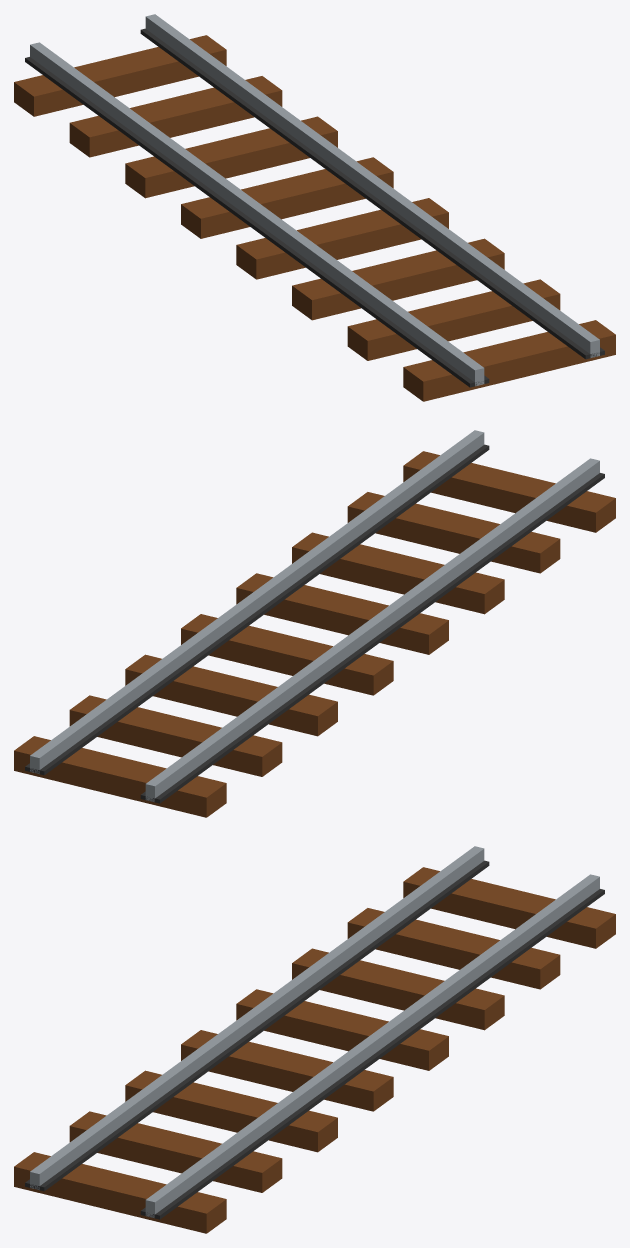
File: Mining_RailStraight.fbx
3 renders of one model, top to bottom at view 1: azimuth 30°, elevation 25°; view 2: azimuth 150°, elevation 25°; view 3: azimuth 330°, elevation 25°, orthographic.
Visible parts, largest first — view 1: Mining_RailStraight; view 2: Mining_RailStraight; view 3: Mining_RailStraight.
Part boxes in pixels (x1,y1,x2,y2): Mining_RailStraight: [14, 14, 615, 401]; Mining_RailStraight: [14, 430, 615, 817]; Mining_RailStraight: [14, 846, 615, 1233].
Bounding box in the file's own units: 1 × 0.18 × 4.
